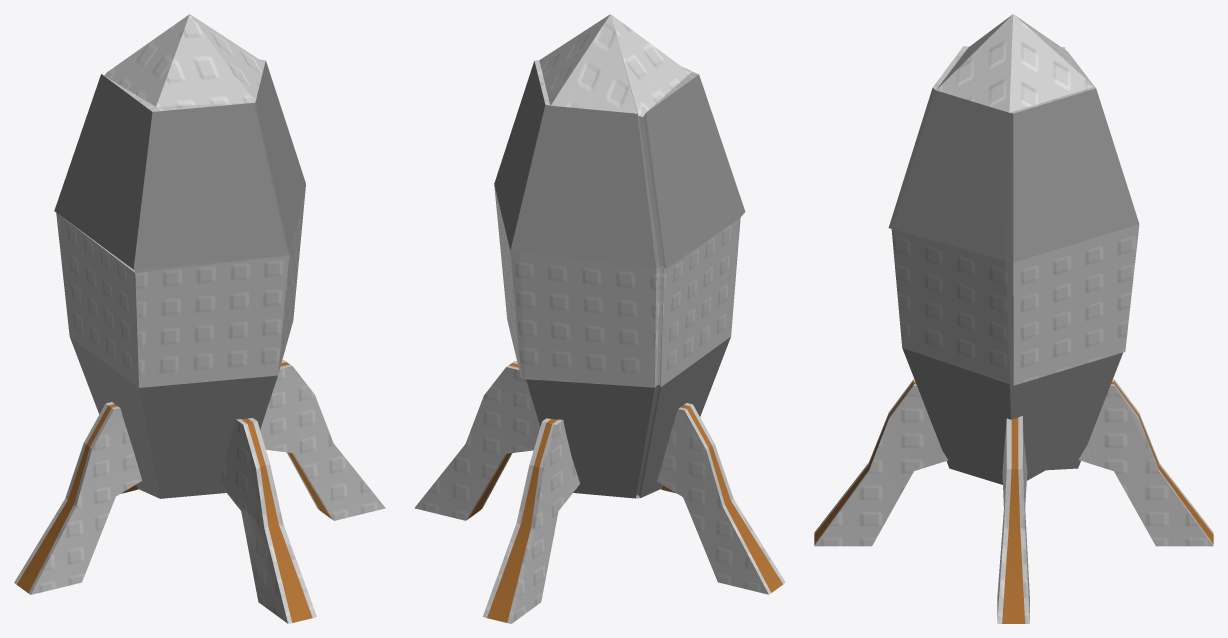
File: daodan1.FBX
3 renders of one model, left to right at view 1: azimuth 30°, elevation 25°; view 2: azimuth 150°, elevation 25°; view 3: azimuth 270°, elevation 25°, orthographic. The views are drawn at different scales.
Visible parts, largest first — view 1: 1, 3, 2; view 2: 1, 3, 2; view 3: 1, 3, 2.
Boxes of the visible parts, x1,y1,x2,y2 form: 1: (54, 14, 305, 498); 3: (14, 360, 385, 623); 2: (16, 362, 331, 622); 1: (494, 14, 745, 498); 3: (414, 361, 785, 623); 2: (468, 363, 782, 622); 1: (888, 14, 1139, 484); 3: (814, 379, 1213, 623); 2: (814, 381, 1213, 623).
Bounding box in the file's own units: 7.5 × 10.79 × 7.51.
